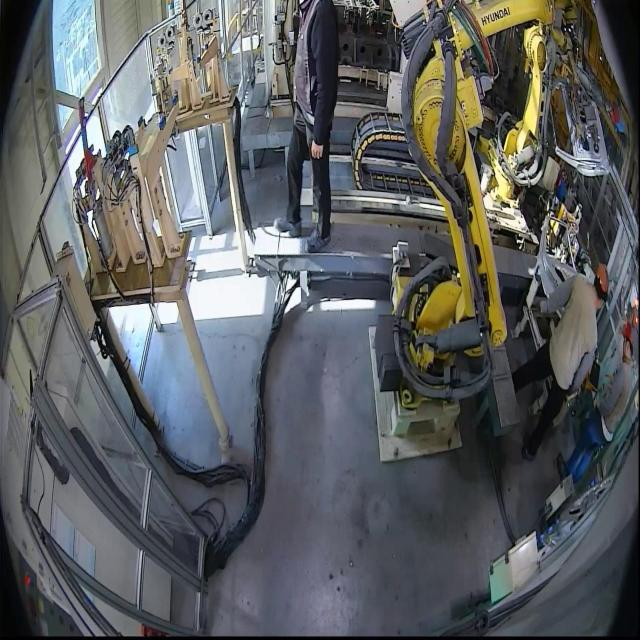Person: (510, 260, 609, 462), (273, 0, 339, 252), (556, 320, 634, 485)
